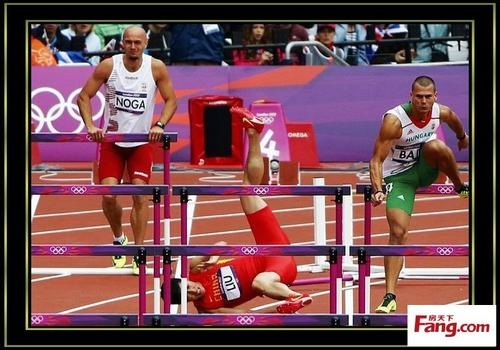falling: (153, 87, 341, 309)
